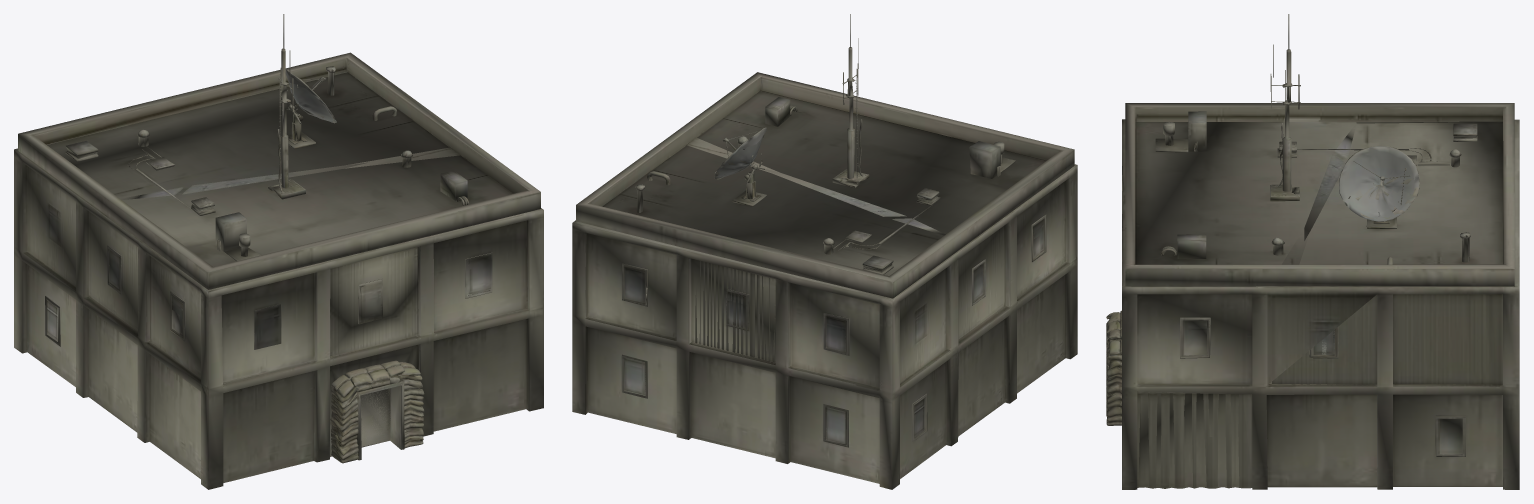
The picture shows the model from 3 angles, left to right: view 1: azimuth 30°, elevation 25°; view 2: azimuth 150°, elevation 25°; view 3: azimuth 270°, elevation 25°; orthographic projection. The views are drawn at different scales.
Visible parts, largest first — view 1: hull; view 2: hull; view 3: hull.
Part boxes in pixels (box(x1,y1,x2,y2)): hull: box(14, 14, 543, 489); hull: box(572, 14, 1077, 489); hull: box(1106, 14, 1519, 489).
Bounding box in the file's own units: 18.4 × 19.85 × 19.2.
Materials: 3 (3 with a texture image).
